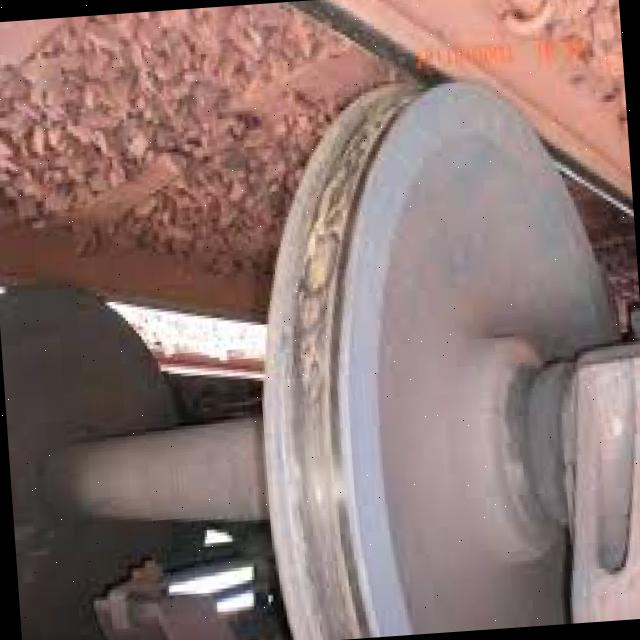Rollerpile: (250, 52, 446, 378)
